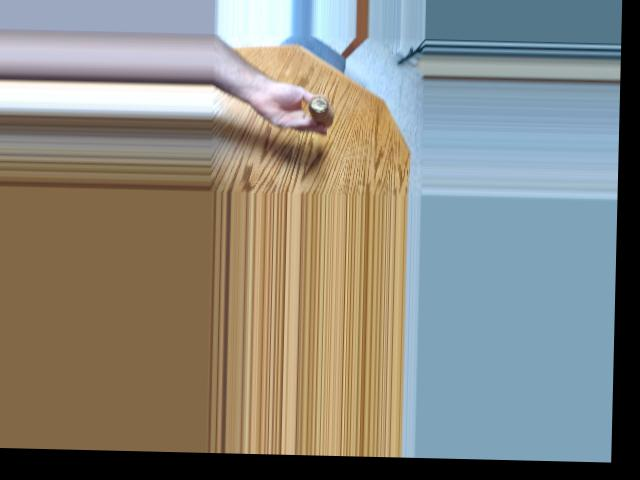sweet_potato: (299, 89, 338, 129)
